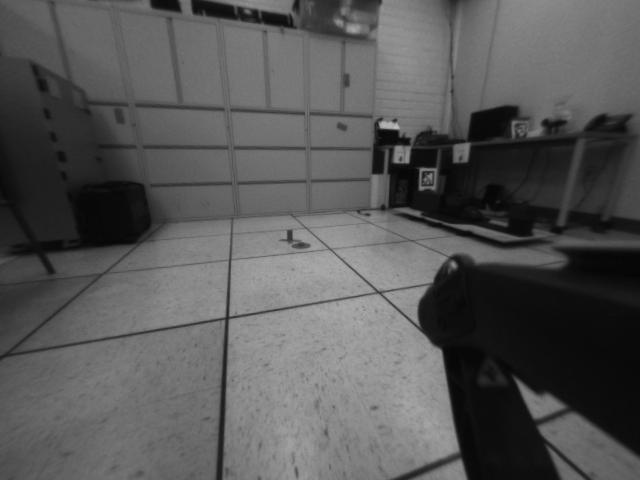X: (279, 230, 299, 243)
